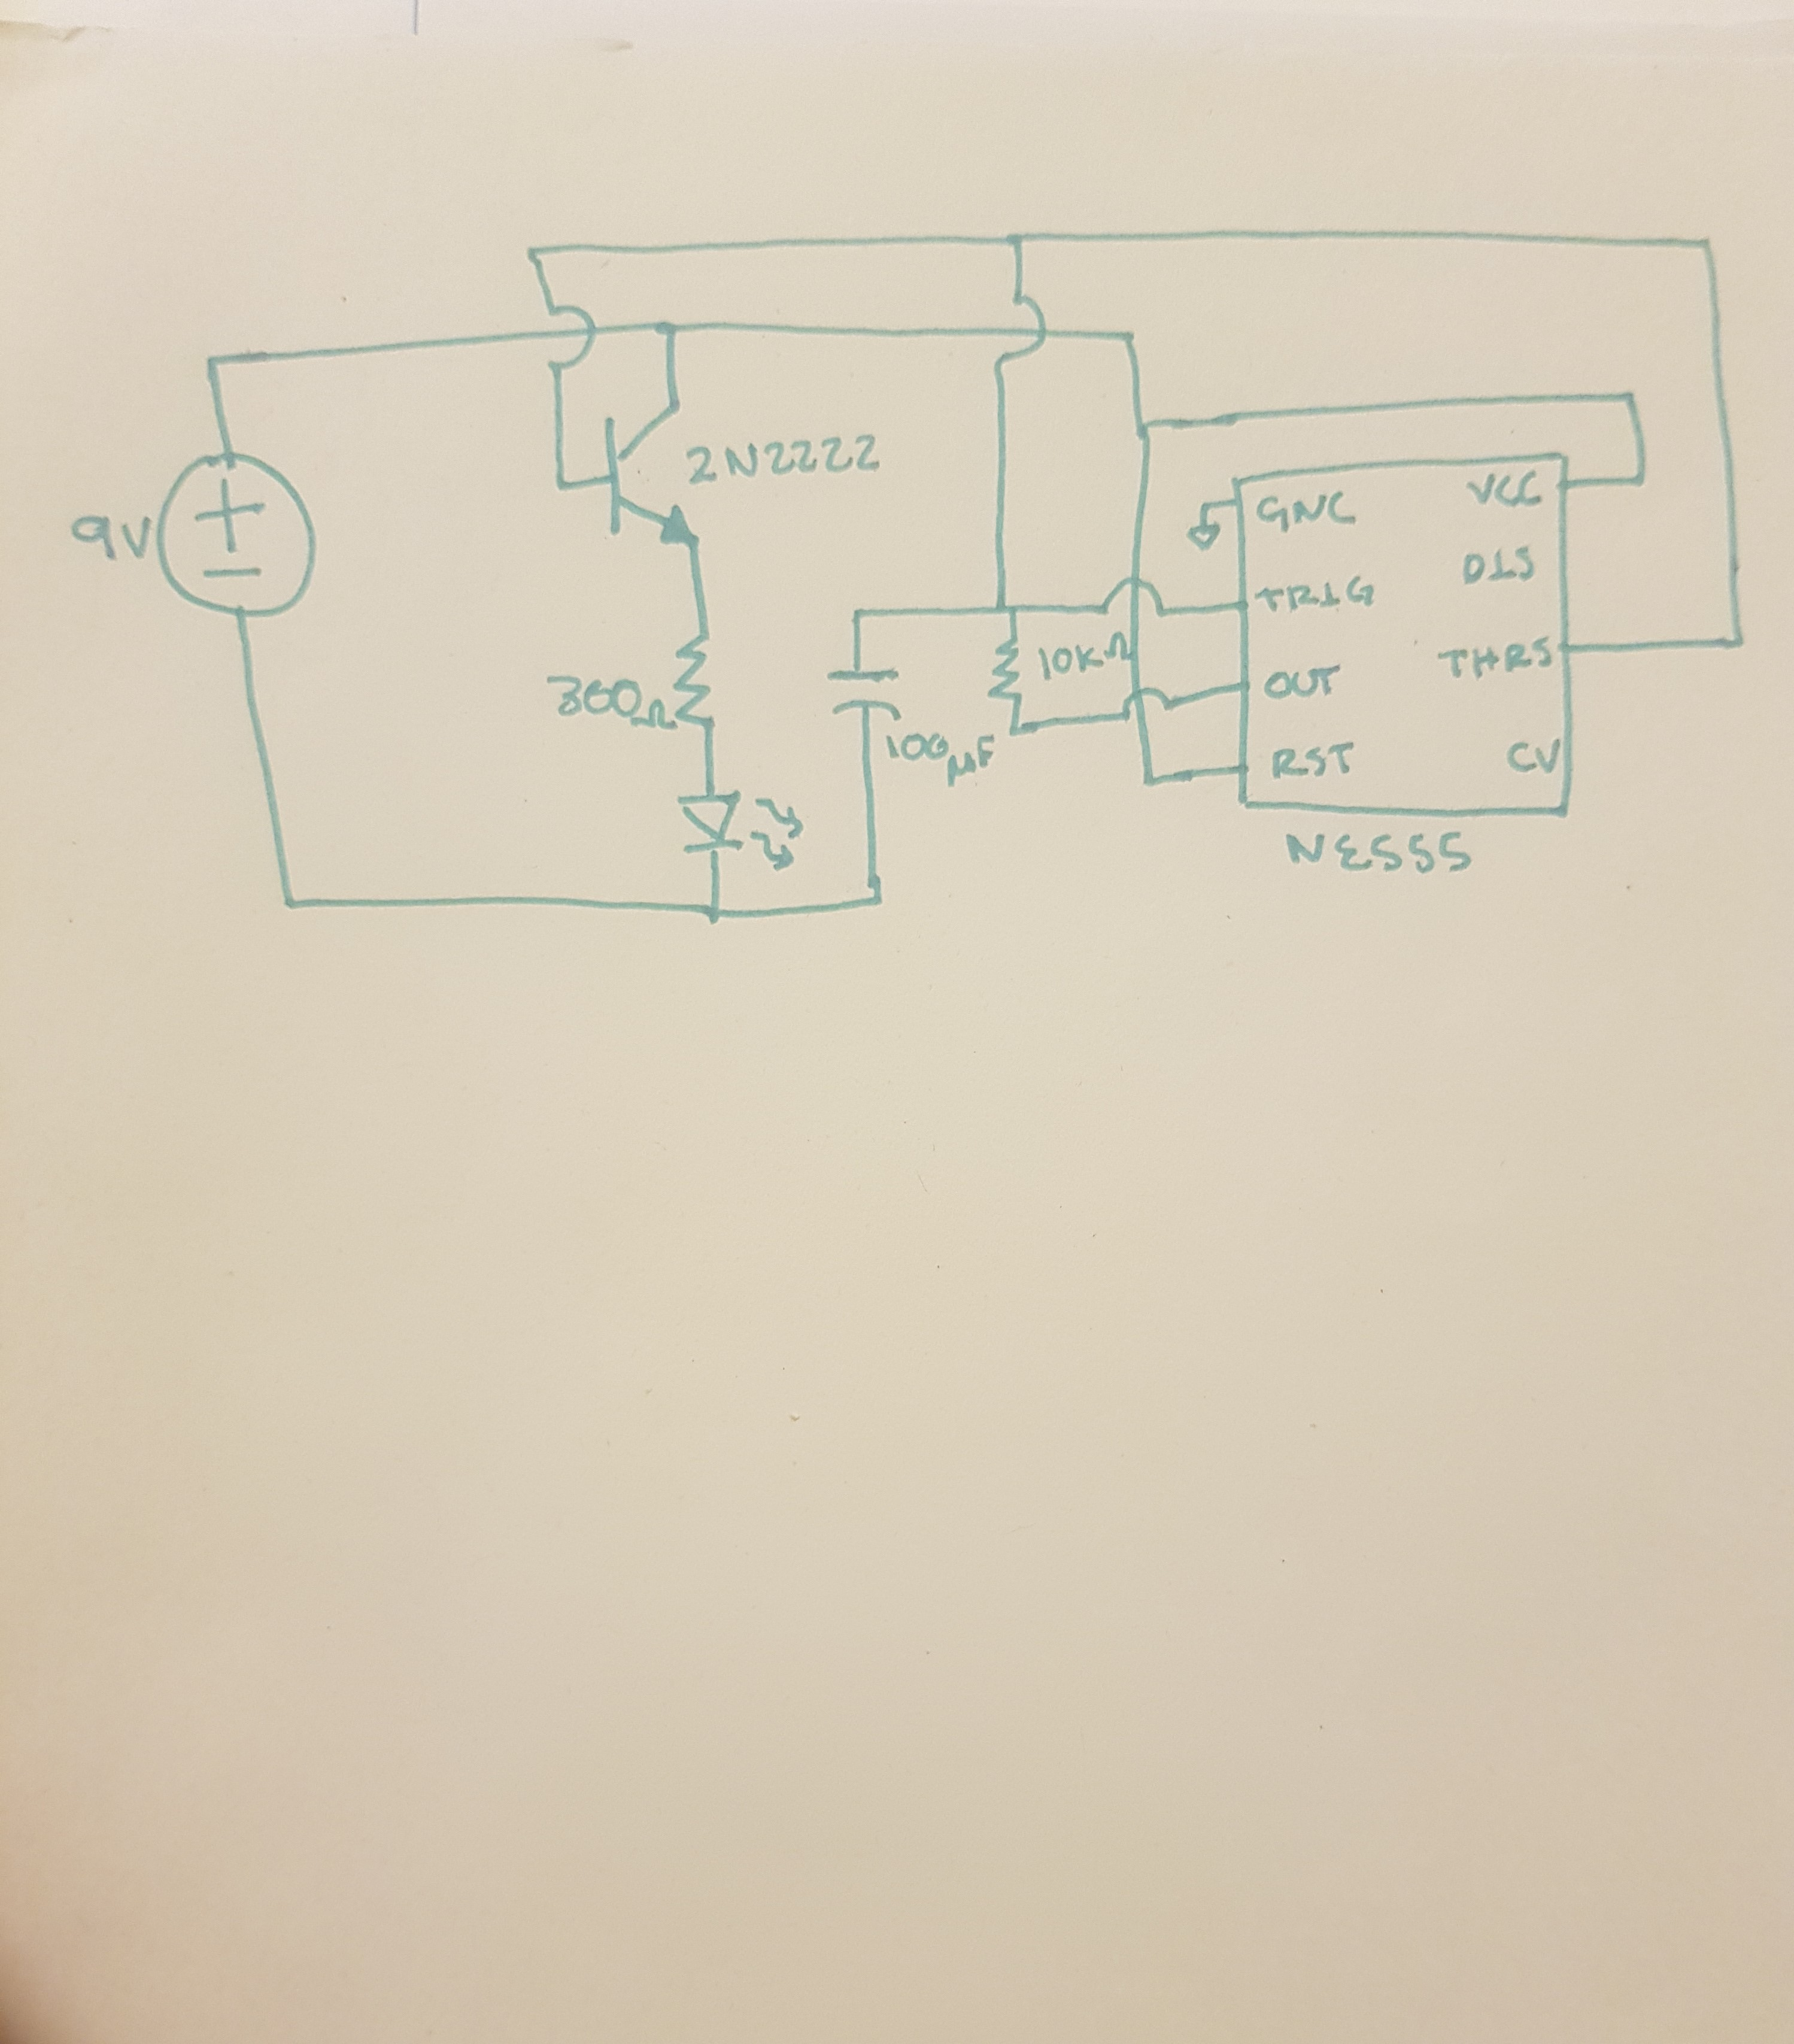capacitor.unpolarized: (815, 645, 909, 733)
crossover: (987, 290, 1052, 372), (542, 301, 600, 379), (1093, 572, 1168, 624), (1118, 683, 1177, 725)
diode.light_emitting: (669, 772, 821, 885)
gnd: (1180, 518, 1226, 556)
integrated_cricuit.ne555: (1229, 438, 1589, 829)
junction: (1128, 412, 1161, 448), (1001, 228, 1036, 255), (1721, 627, 1751, 657), (989, 596, 1026, 619), (1116, 322, 1144, 351), (1627, 464, 1653, 495), (1613, 384, 1641, 412), (1693, 229, 1719, 257), (657, 318, 685, 342), (704, 899, 725, 928), (203, 351, 228, 375), (1137, 770, 1163, 793), (523, 243, 549, 266), (1005, 716, 1026, 742), (280, 893, 302, 916), (850, 605, 871, 627), (553, 474, 572, 497), (866, 892, 888, 911), (1194, 497, 1213, 516)
resistor: (671, 622, 730, 753), (986, 634, 1027, 704)
text: (678, 431, 885, 487), (1283, 827, 1474, 879), (541, 671, 669, 733), (881, 732, 1000, 789), (1434, 636, 1559, 680), (1255, 572, 1380, 615), (64, 508, 149, 568), (1252, 488, 1365, 534), (1457, 542, 1537, 589), (1462, 466, 1547, 509), (1271, 737, 1354, 779), (1036, 641, 1120, 681), (1262, 662, 1344, 700), (1504, 737, 1563, 779)
transistor: (577, 393, 701, 560)
voltage.dc: (153, 450, 327, 620)
